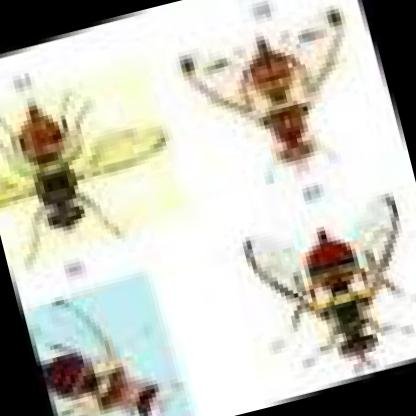fruit fly: (178, 10, 345, 164), (245, 194, 397, 359), (0, 104, 163, 231)
